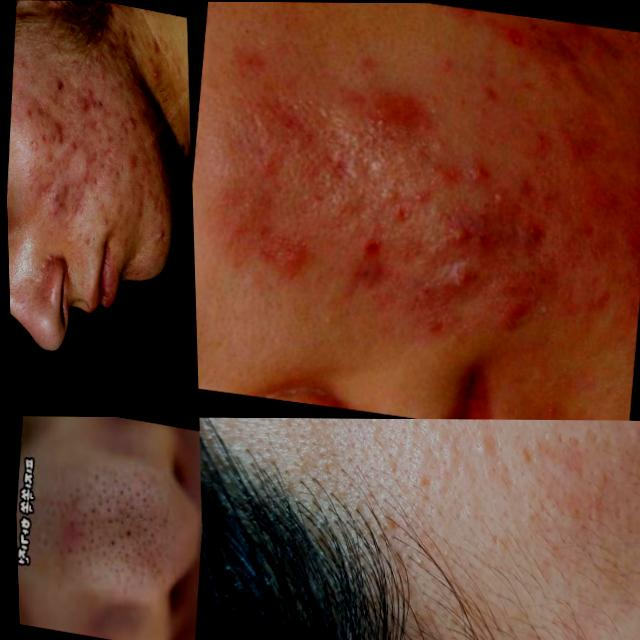7: (31, 234, 47, 256)
8: (492, 21, 523, 55), (453, 264, 477, 294)
9: (440, 222, 472, 254), (145, 58, 166, 98)
blackheads: (49, 114, 76, 152), (117, 103, 143, 138), (32, 99, 52, 125), (148, 217, 166, 243), (122, 155, 138, 172)
dark spot: (100, 514, 132, 553), (65, 497, 96, 537), (119, 481, 150, 520), (94, 476, 123, 517), (101, 544, 129, 578), (129, 513, 154, 545), (49, 191, 59, 210)
